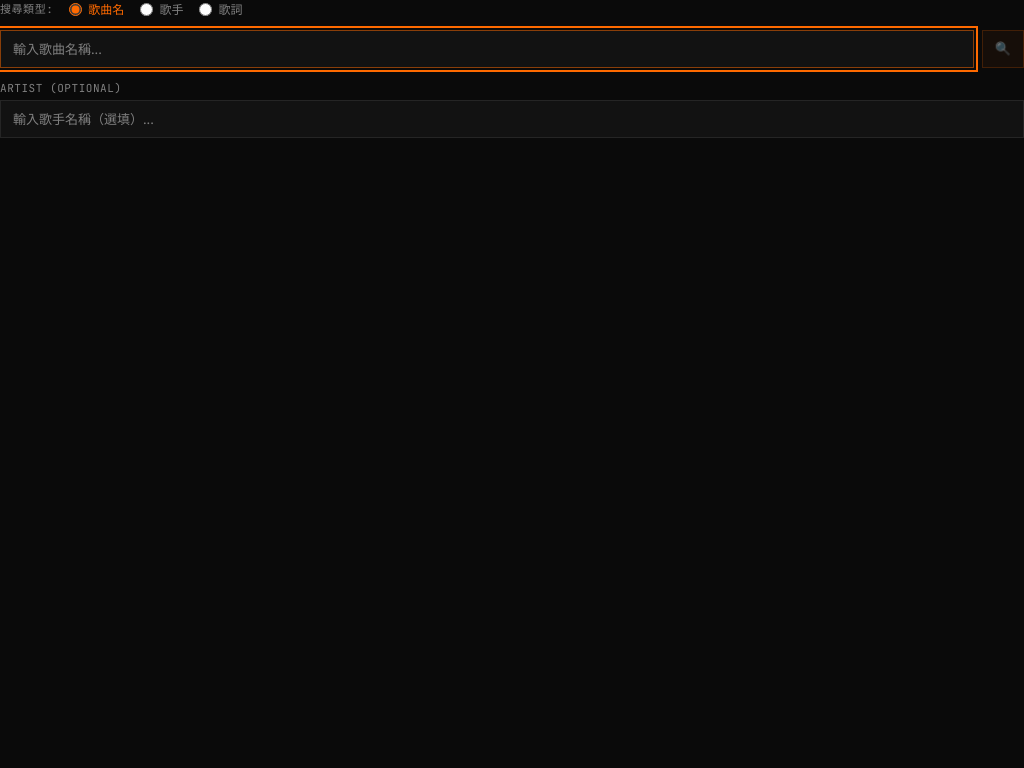
it: LyricsSearchPanel › opens preview modal when a result is clicked
Type "Test Song" into the field with placeholder "輸入歌曲名稱...".
click(487, 49); type("Test Song")  # box left=0, top=30, right=974, bottom=68
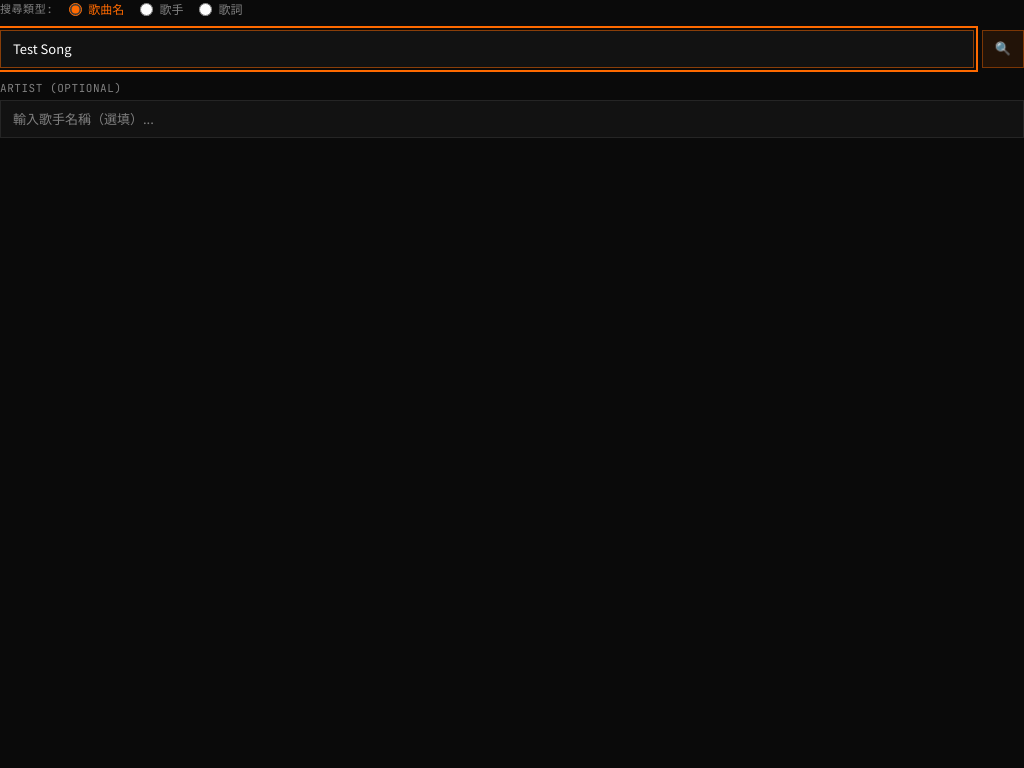
Press Enter in the field with placeholder "輸入歌曲名稱...", box left=0, top=30, right=974, bottom=68
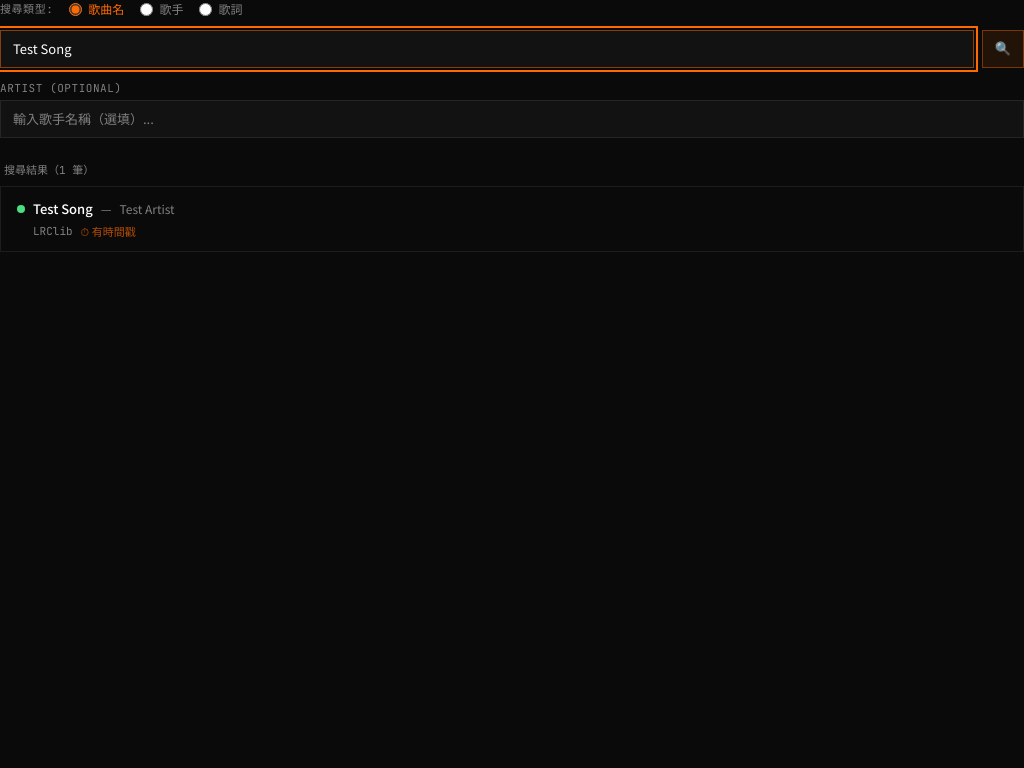
Expected: the text "Test Song" is shown, left=33, top=199, right=93, bottom=218
Click the button "Test Song — Test Artist LRClib ⏱ 有時間戳".
click(63, 208)  # box left=0, top=186, right=1023, bottom=252
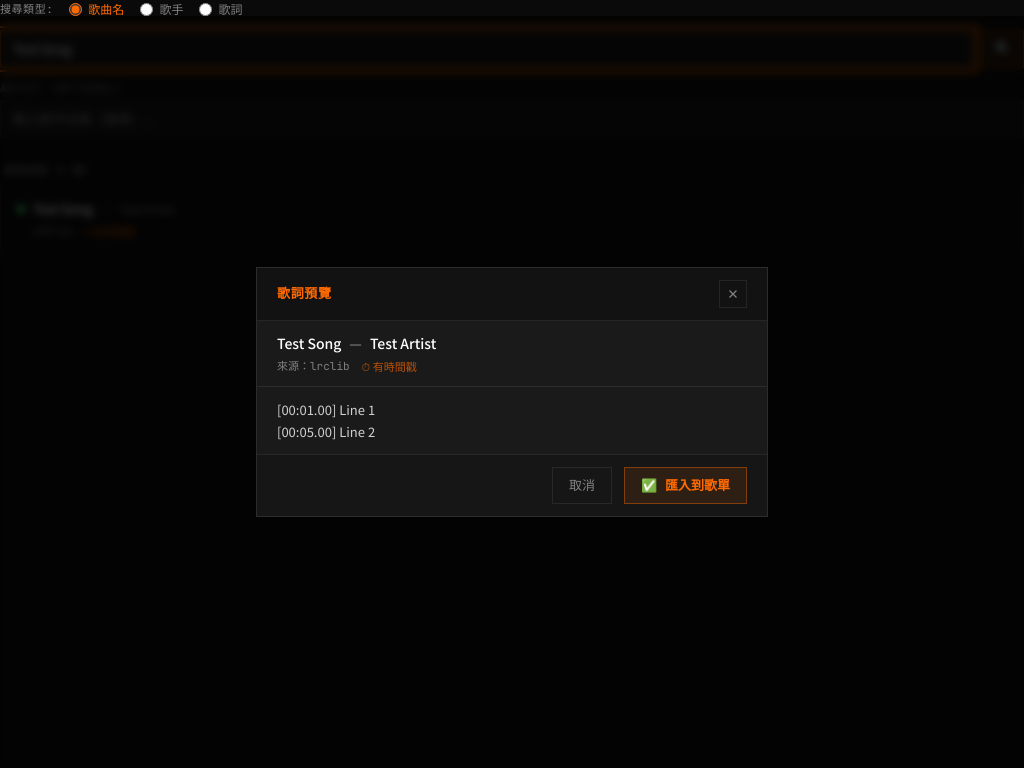
Expected: the text "歌詞預覽" is shown, left=277, top=284, right=332, bottom=304
